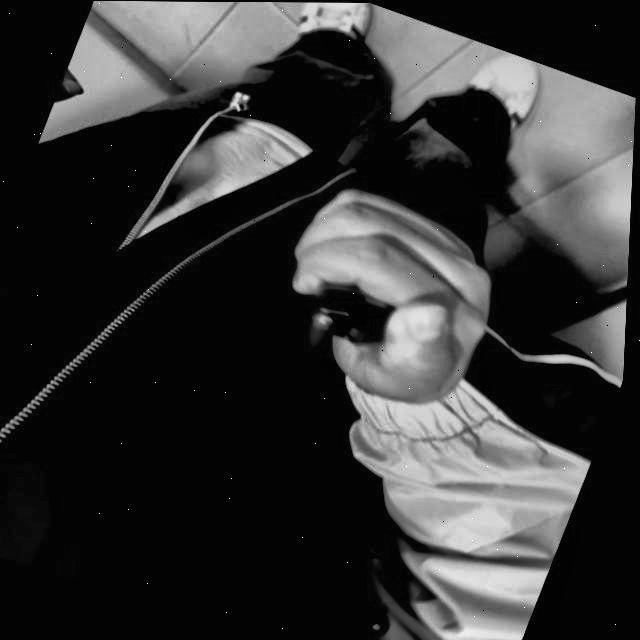Fire: (301, 307, 337, 355)
